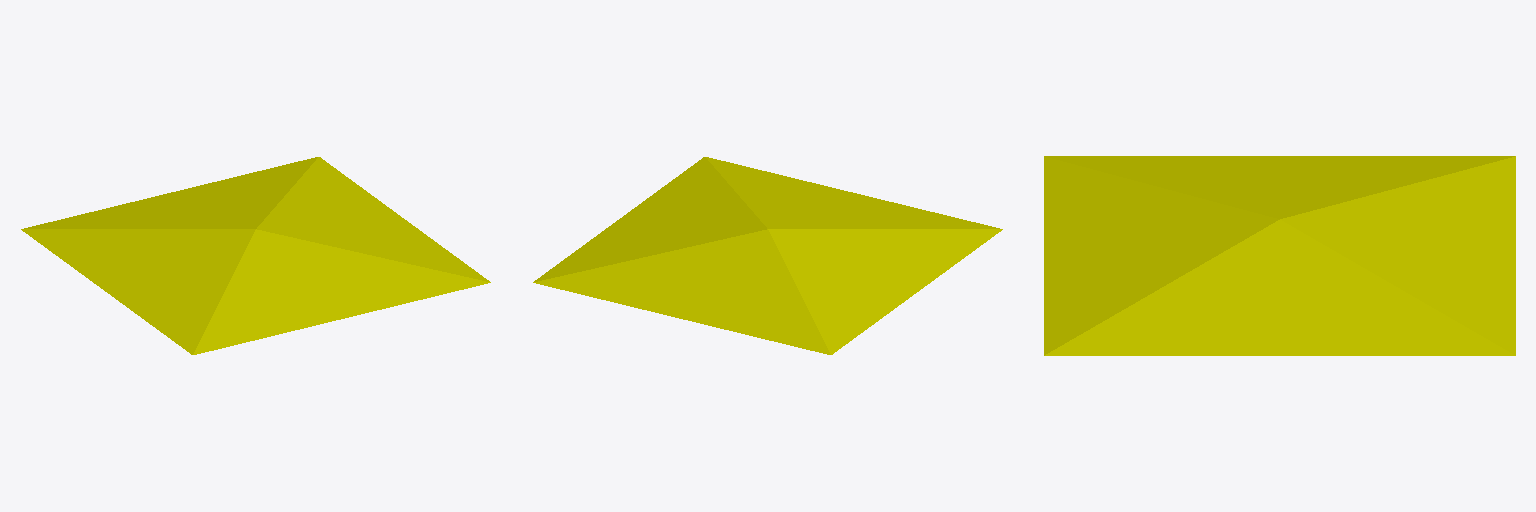
URDF robot description (pyramid):
<?xml version="1.0" ?>
<robot name="pyramid">
  <material name="mustard_yellow">
        <color rgba="0.8 0.8 0.0 1"/>
      </material>
  <link name="pyramid__link_6">
    <inertial>
      <mass value="1000"/>
      <origin rpy="0     0     1.5708" xyz="0.5 0.5 0"/>
      <inertia ixx="0.166667" ixy="0" ixz="0" iyy="0.166667" iyz="0" izz="0.166667"/>
    </inertial>
    <collision name="pyramid__collision">
      <origin rpy="0     0     1.5708" xyz="0 0 0"/>
      <geometry>
        <mesh filename="package://pyramid/pyramid.stl" scale="0.7 0.7 1.2"/>
      </geometry>
    </collision>
    <visual name="pyramid__visual">
      <origin rpy="0     0     1.5708" xyz="0 0 0"/>
      <geometry>
        <mesh filename="package://pyramid/pyramid.stl" scale="0.7 0.7 1.2"/>
      </geometry>
      <material name="mustard_yellow"/>
    </visual>
  </link>
</robot>

--- Render facts (derived) ---
The picture shows the robot from 3 angles, left to right: view 1: azimuth 30°, elevation 25°; view 2: azimuth 150°, elevation 25°; view 3: azimuth 270°, elevation 25°; orthographic projection.
Model pyramid with 1 links and 0 joints (none), rooted at pyramid__link_6, posed all joints at 0.
Visible links, largest first — view 1: pyramid__link_6; view 2: pyramid__link_6; view 3: pyramid__link_6.
Link boxes in pixels (left/top/right/bottom): pyramid__link_6: left=21, top=157, right=490, bottom=354; pyramid__link_6: left=533, top=157, right=1002, bottom=354; pyramid__link_6: left=1044, top=156, right=1515, bottom=355.
Size in the robot's own frame: 1.4 by 1.4 by 0.12 metres.
1 mesh visuals loaded from 1 distinct referenced files (1 binary STL).